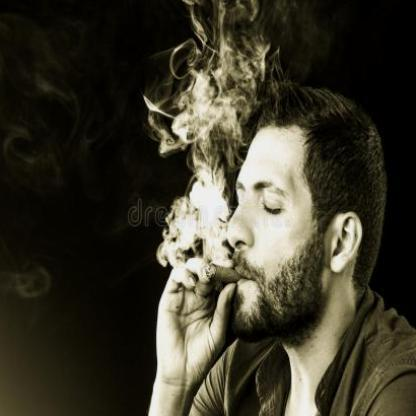cigarette: (204, 258, 242, 284)
person: (222, 73, 415, 415)
smoke: (150, 51, 234, 257)
